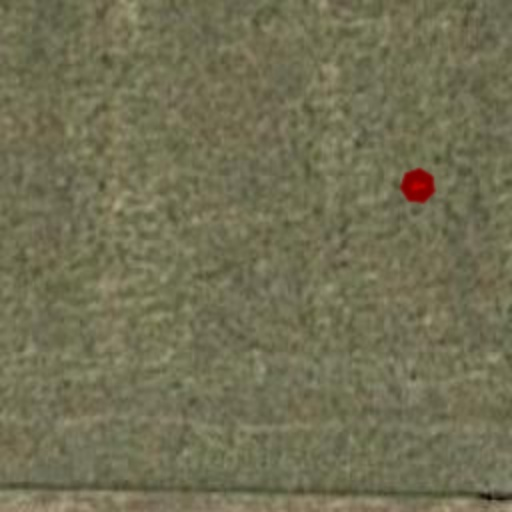heptagon: (394, 162, 442, 210)
